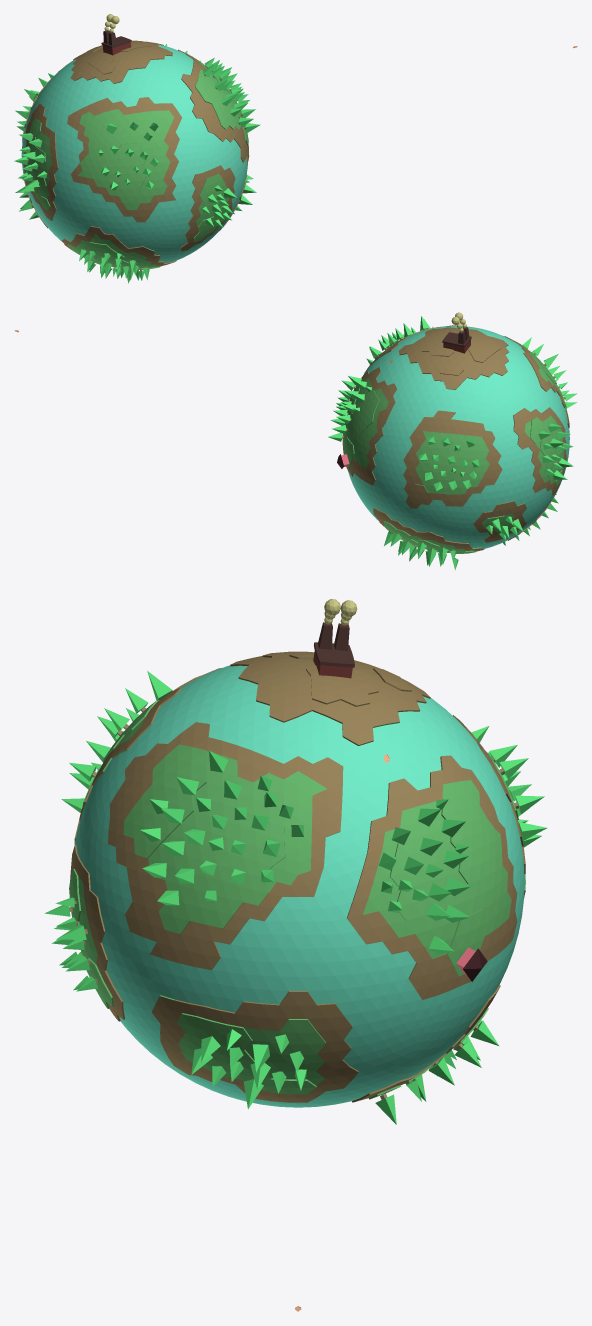
File: globe1.gltf
The picture shows the model from 3 angles, top to bottom: view 1: azimuth 30°, elevation 25°; view 2: azimuth 150°, elevation 25°; view 3: azimuth 270°, elevation 25°; orthographic projection. The views are drawn at different scales.
Parts seen in each view (by area): view 1: Globe; view 2: Globe; view 3: Globe.
Part boxes in pixels (bbox=[...]): Globe: bbox=[14, 14, 260, 283]; Globe: bbox=[328, 312, 577, 570]; Globe: bbox=[44, 599, 546, 1124].
Size of the model in its own units: 5.72 by 2.4 by 2.24.
